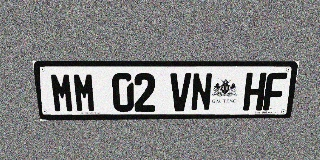0: (112, 73, 134, 112)
2: (134, 73, 155, 112)
F: (263, 73, 287, 110)
H: (243, 73, 267, 111)
M: (49, 73, 75, 113), (72, 73, 97, 112)
N: (190, 73, 213, 111)
V: (170, 73, 191, 111)
